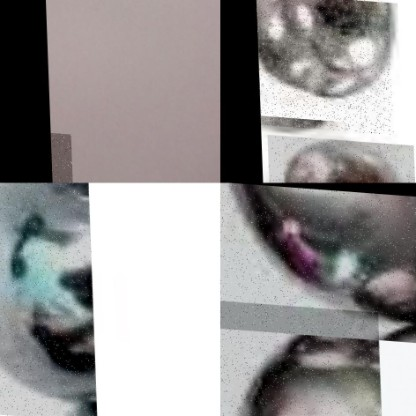ironball: (220, 182, 415, 341), (0, 182, 94, 415), (220, 300, 385, 415), (255, 0, 391, 131), (265, 133, 415, 182), (48, 131, 70, 182)
